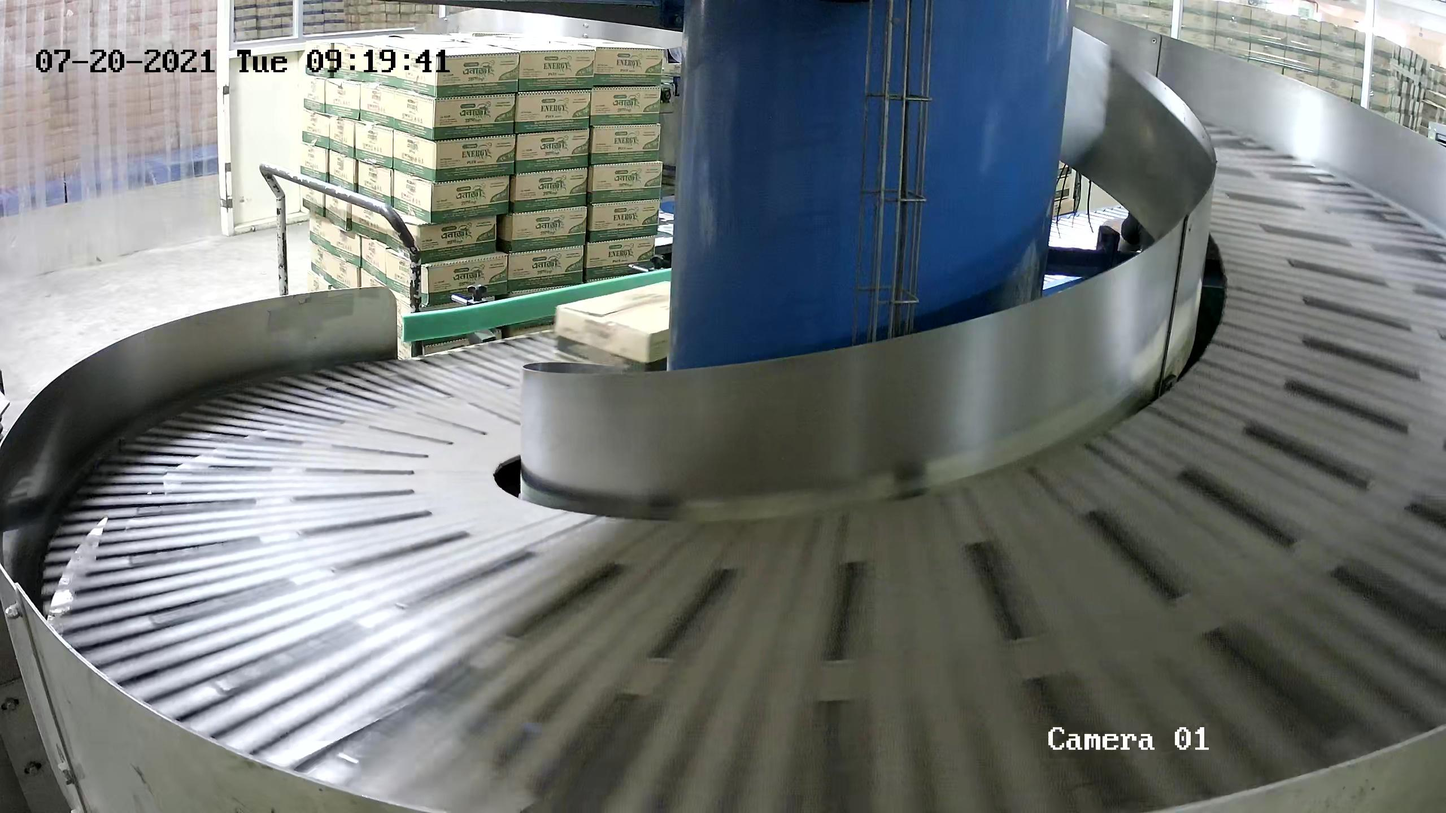Box: (553, 278, 721, 385)
